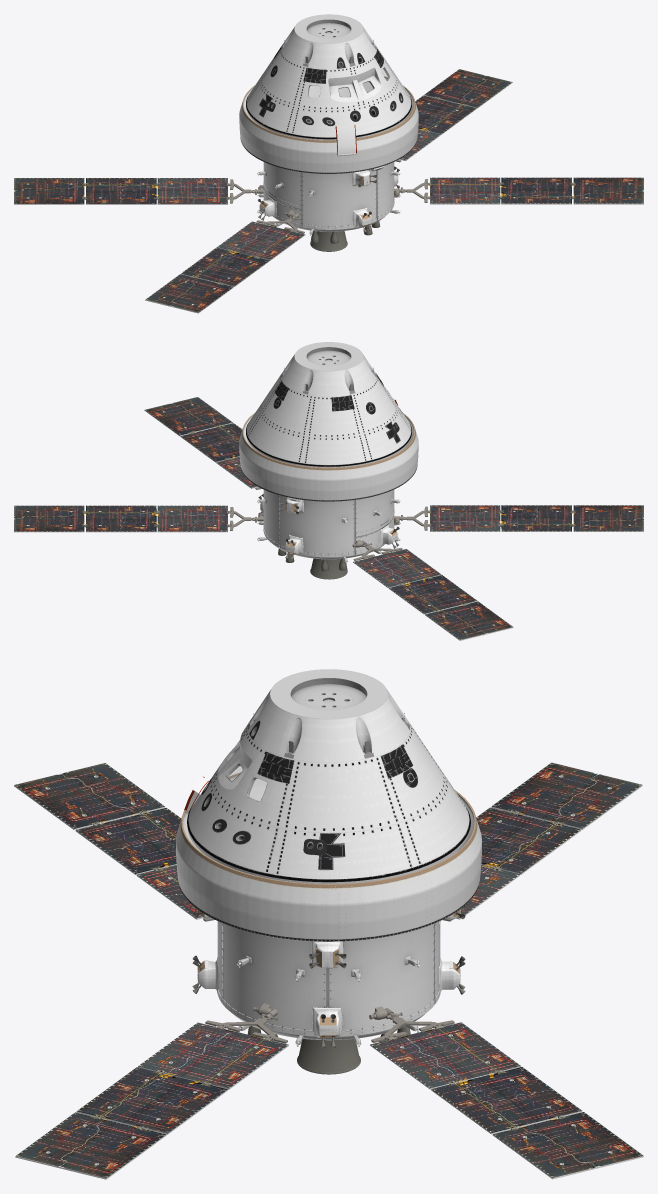
The model's file is orion.glb.
3 renders of one model, top to bottom at view 1: azimuth 30°, elevation 25°; view 2: azimuth 150°, elevation 25°; view 3: azimuth 270°, elevation 25°, orthographic. The views are drawn at different scales.
Visible parts, largest first — view 1: retopo_shell, Cylinder.031, solarArray.005, solarArray.002, solarArray.003, solarArray.004, Cylinder.010, Cube.017, SMClasp; view 2: retopo_shell, Cylinder.031, solarArray.004, solarArray.003, solarArray.002, solarArray.005, Cylinder.010, Cube.017; view 3: retopo_shell, Cylinder.031, solarArray.004, solarArray.005, solarArray.002, solarArray.003, Cylinder.010, Cube.017, retopo_shield, retopo_shell.006.
Part boxes in pixels (x1,y1,x2,y2): retopo_shell: (246, 14, 411, 139); Cylinder.031: (239, 76, 418, 229); solarArray.005: (394, 177, 643, 204); solarArray.002: (145, 210, 305, 313); solarArray.003: (14, 178, 263, 204); solarArray.004: (395, 69, 512, 162); Cylinder.010: (259, 170, 398, 231); Cube.017: (257, 166, 399, 251); SMClasp: (335, 124, 355, 154); retopo_shell: (246, 342, 411, 466); Cylinder.031: (239, 413, 418, 557); solarArray.004: (14, 505, 263, 532); solarArray.003: (352, 539, 513, 640); solarArray.002: (394, 505, 643, 531); solarArray.005: (144, 397, 261, 489); Cylinder.010: (260, 498, 397, 559); Cube.017: (258, 494, 399, 579); retopo_shell: (187, 669, 470, 882); Cylinder.031: (176, 772, 481, 1036); solarArray.004: (369, 1006, 643, 1179); solarArray.005: (15, 1003, 288, 1179); solarArray.002: (14, 763, 214, 921); solarArray.003: (443, 762, 642, 921); Cylinder.010: (197, 909, 460, 1040); Cube.017: (192, 906, 465, 1074); retopo_shield: (187, 827, 470, 883); retopo_shell.006: (257, 752, 294, 784).
Size of the model in its own units: 17.63 by 7.26 by 11.28.
21 materials, 11 textured.
